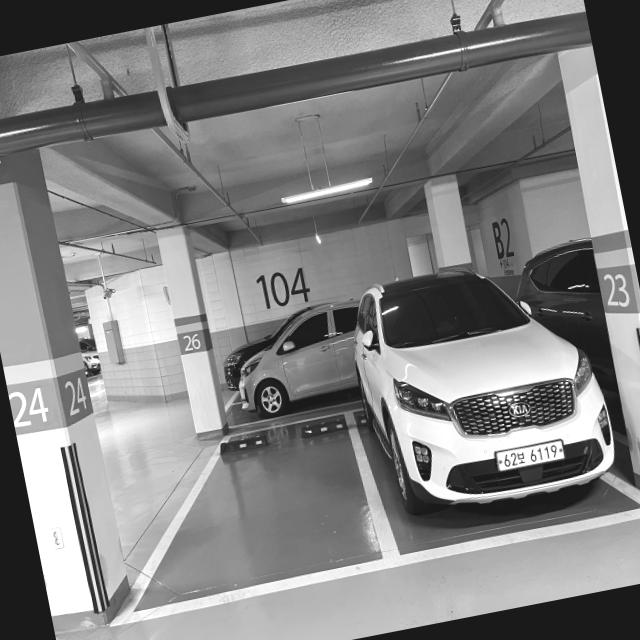car: (339, 225, 640, 547)
free: (96, 403, 412, 635)
